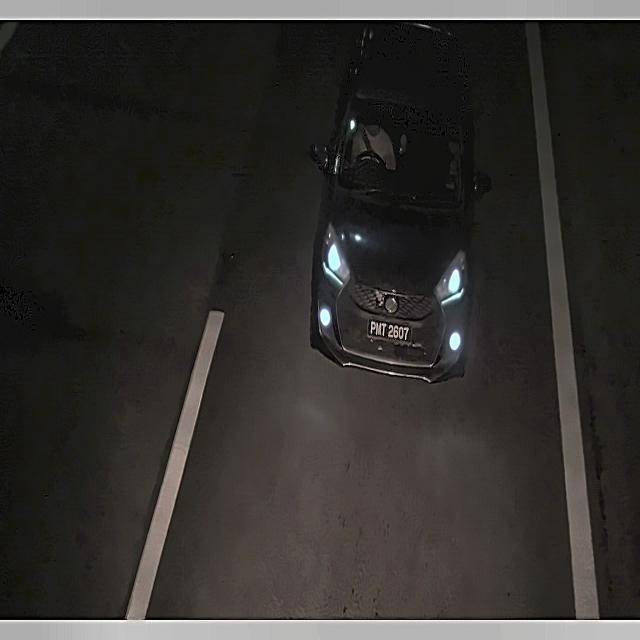car: (366, 310, 416, 350)
